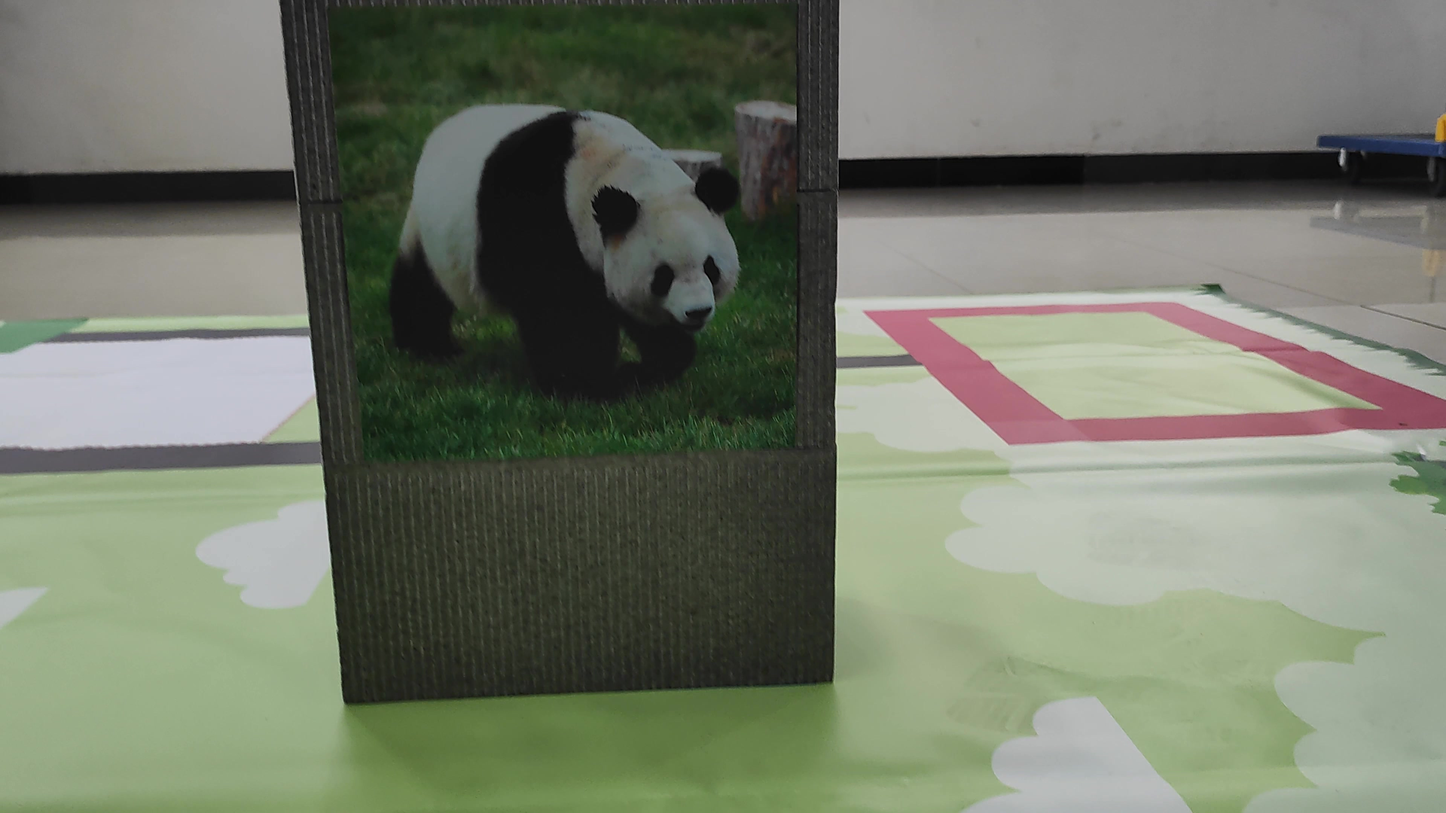panda: (384, 90, 757, 416)
